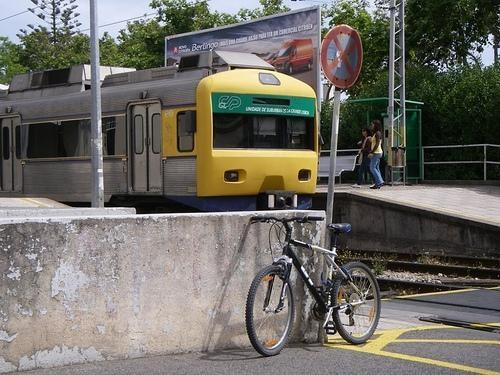bicycle: (248, 216, 384, 357)
